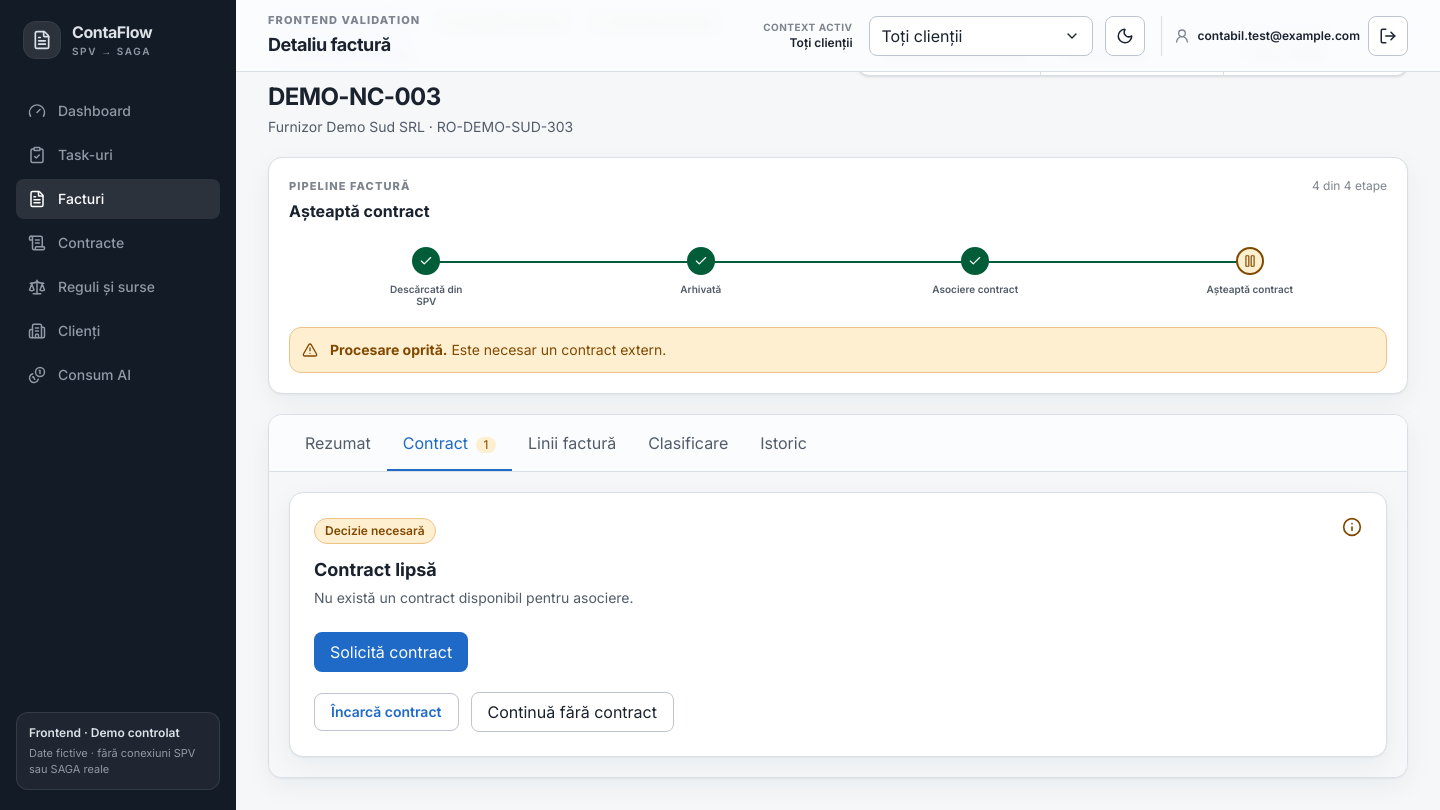
Test: Continuă fără contract › requires a reason of at least 10 characters before continuing
(page scrolled)
Click the button "Continuă fără contract": (572, 712) x1=470 y1=692 x2=674 y2=732
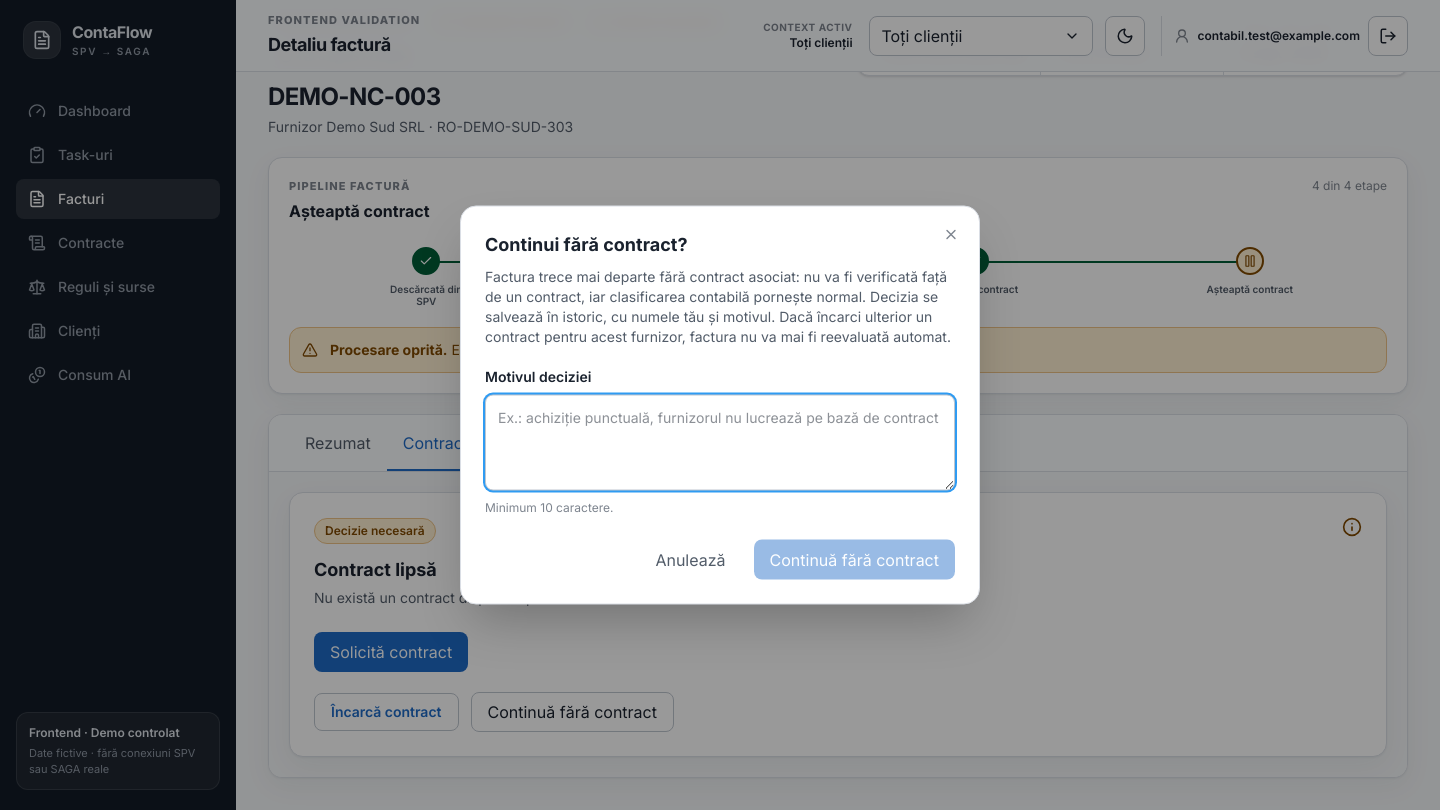
Now the button "Continuă fără contract" is disabled, box x1=754 y1=540 x2=955 y2=580
In the text box labelled "Motivul deciziei": (720, 442) x1=485 y1=394 x2=955 y2=490, type "  scurt  "
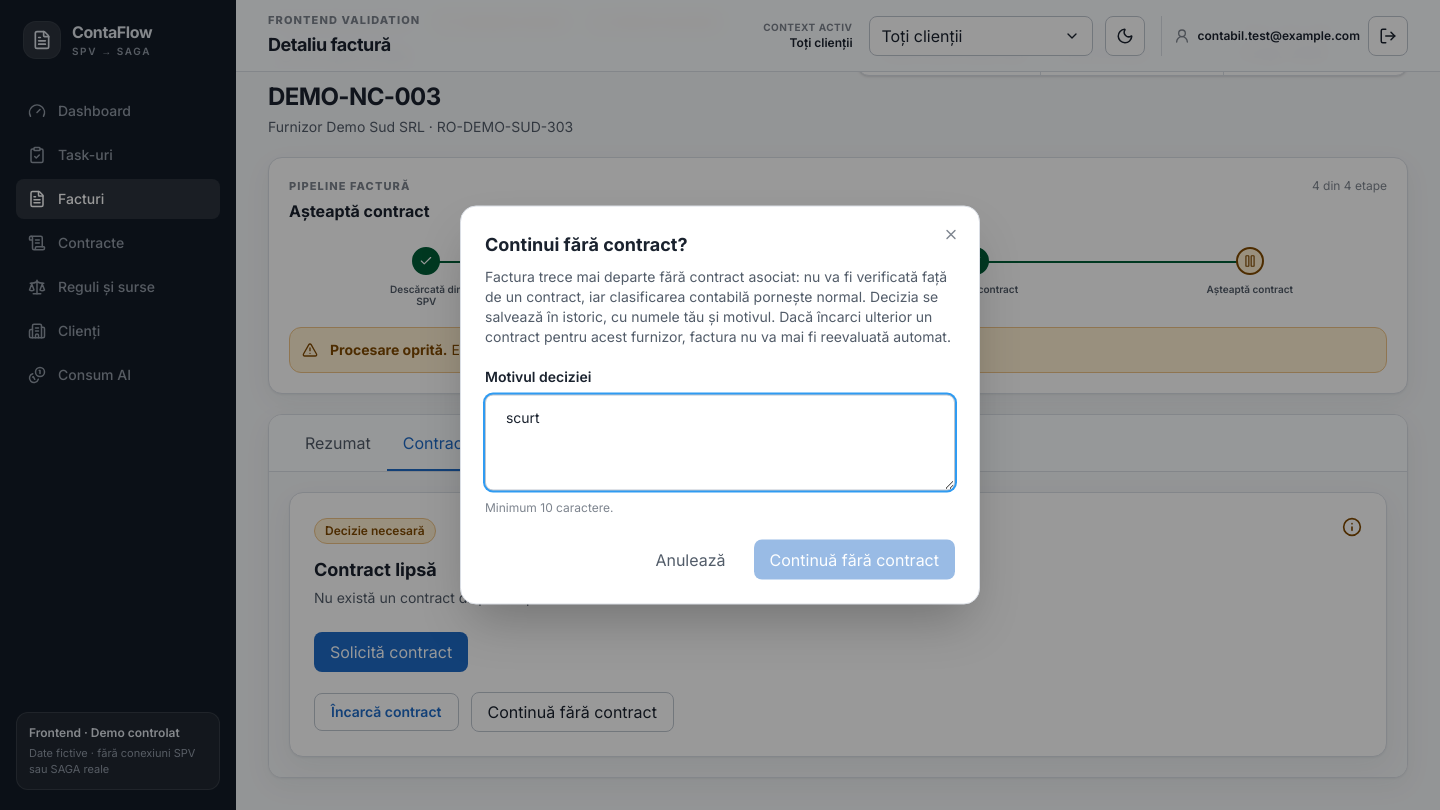
Now the button "Continuă fără contract" is disabled, box x1=754 y1=540 x2=955 y2=580
Click the button "Anulează": (690, 560) x1=639 y1=540 x2=742 y2=580
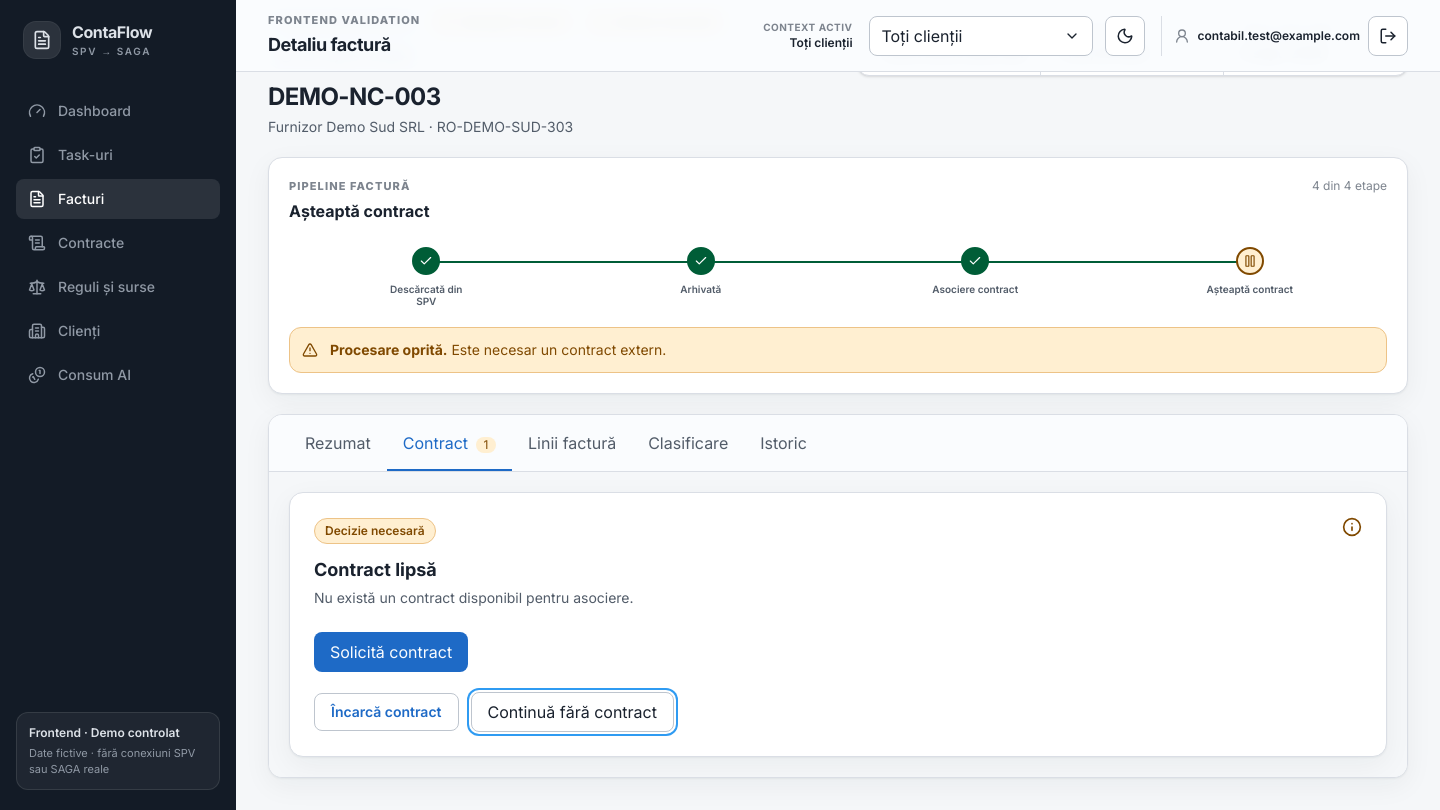
Now the dialog is gone
